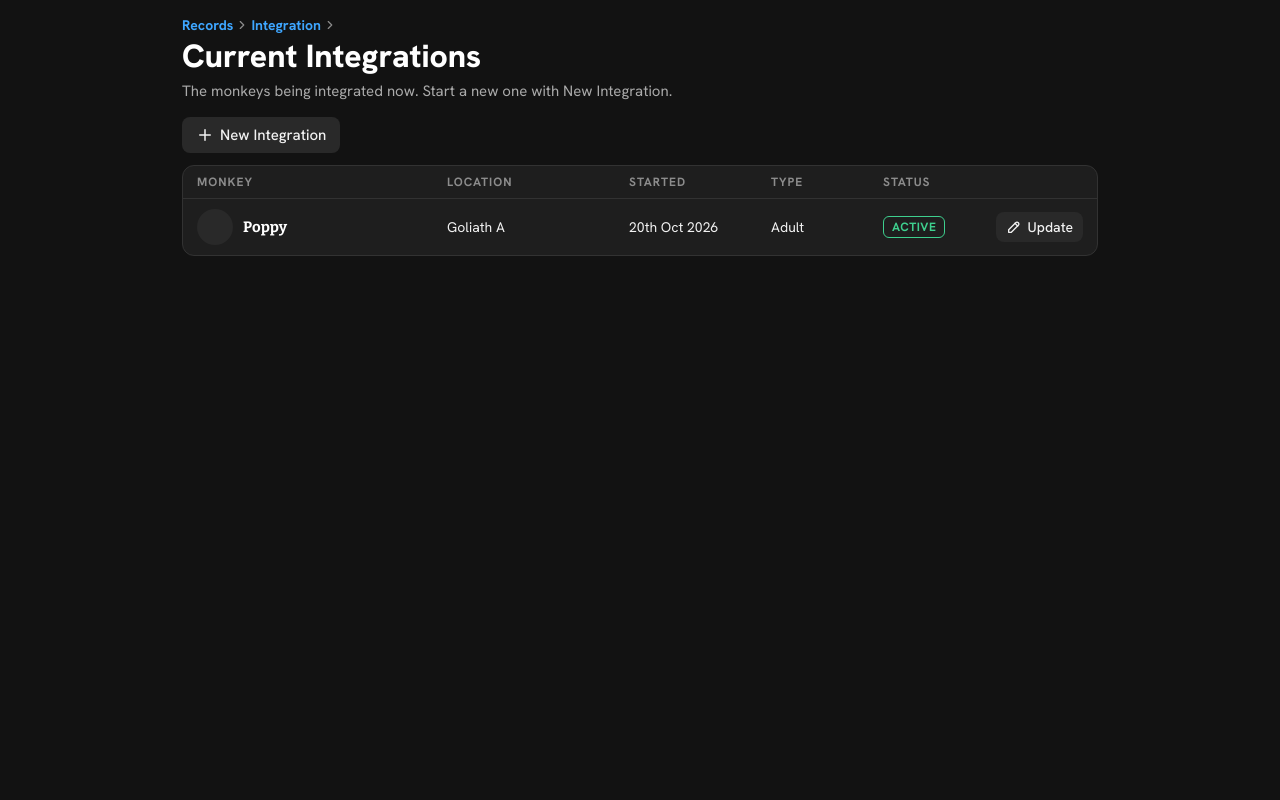
Current Integrations › Update: Cancel changes nothing; a problem shows in the pop-up
The image size is (1280, 800).
Step 1. Click the button with aria-label "Update, Poppy" → click(1039, 227), box [996,212,1083,242]
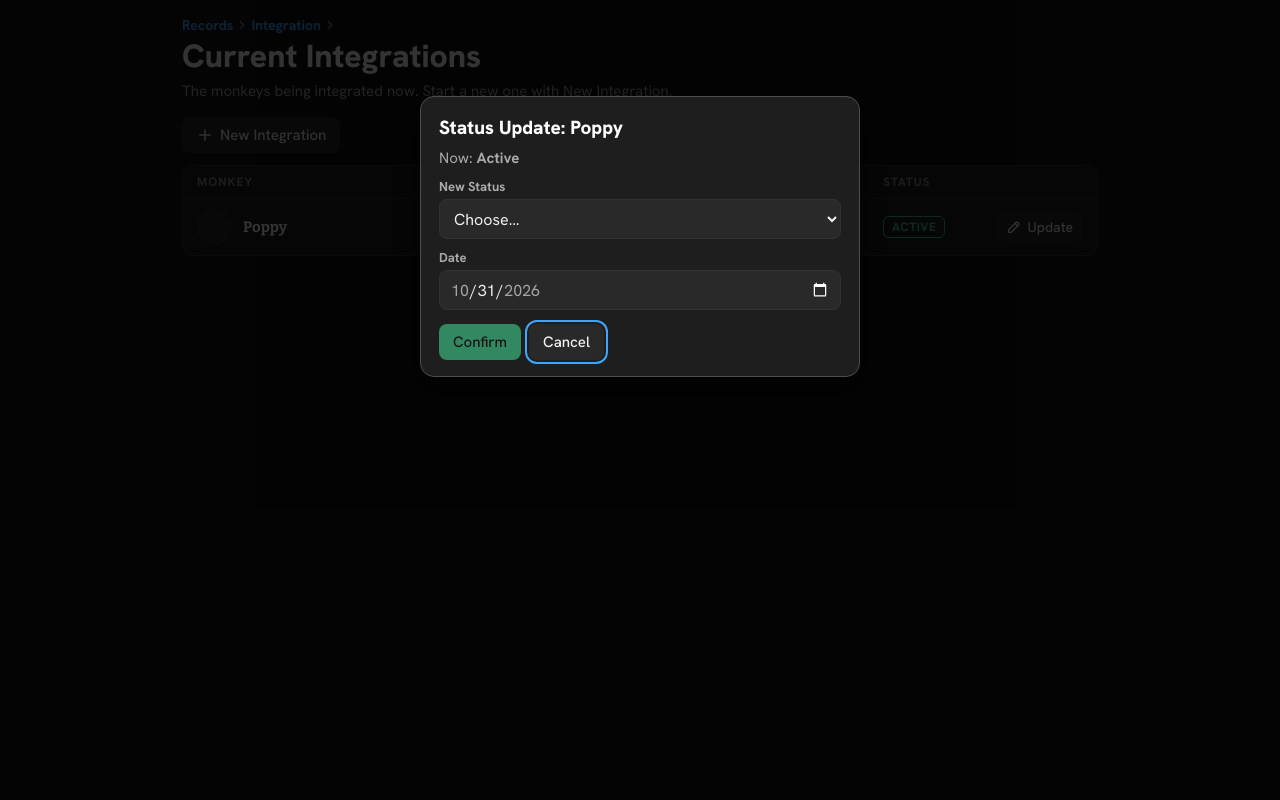
Step 2. Click the button "Cancel" → click(567, 342), box [529,324,604,360]
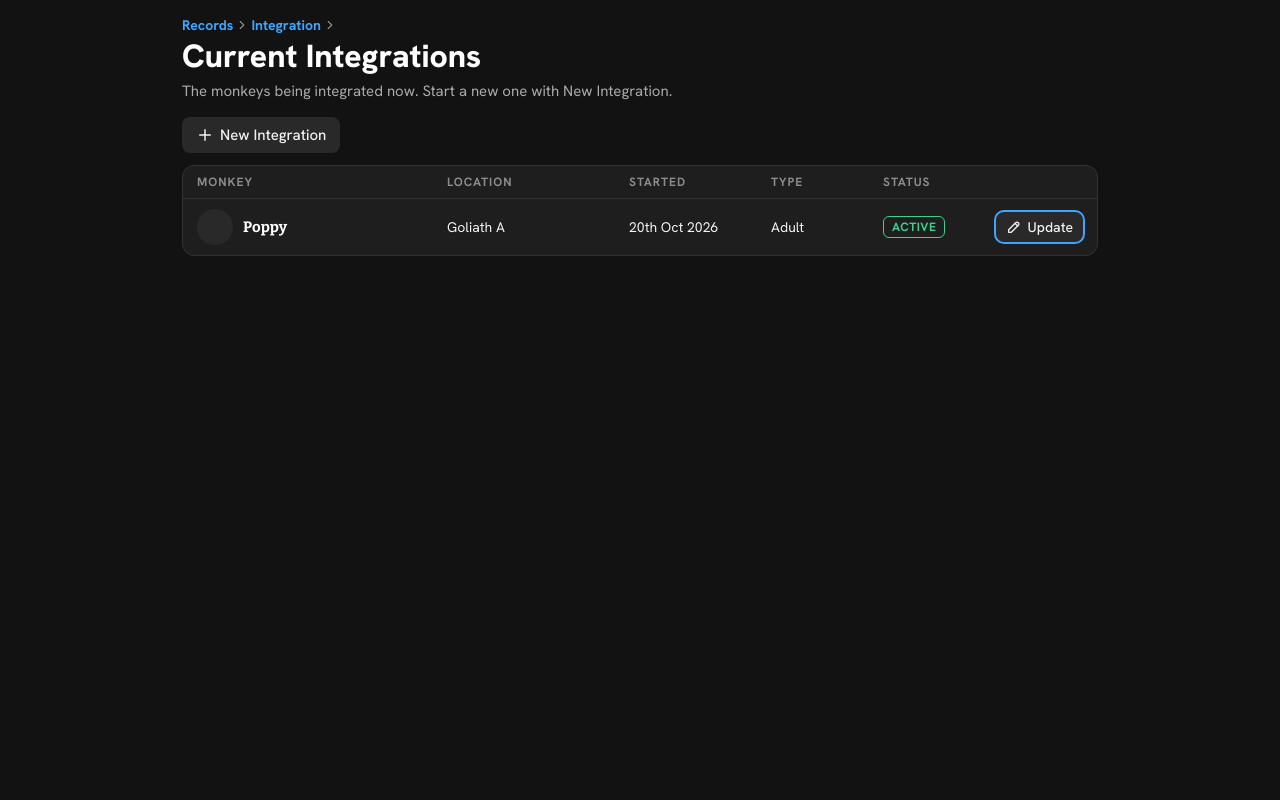
Now the dialog is gone
Step 3. Click the button with aria-label "Update, Poppy" → click(1039, 227), box [996,212,1083,242]
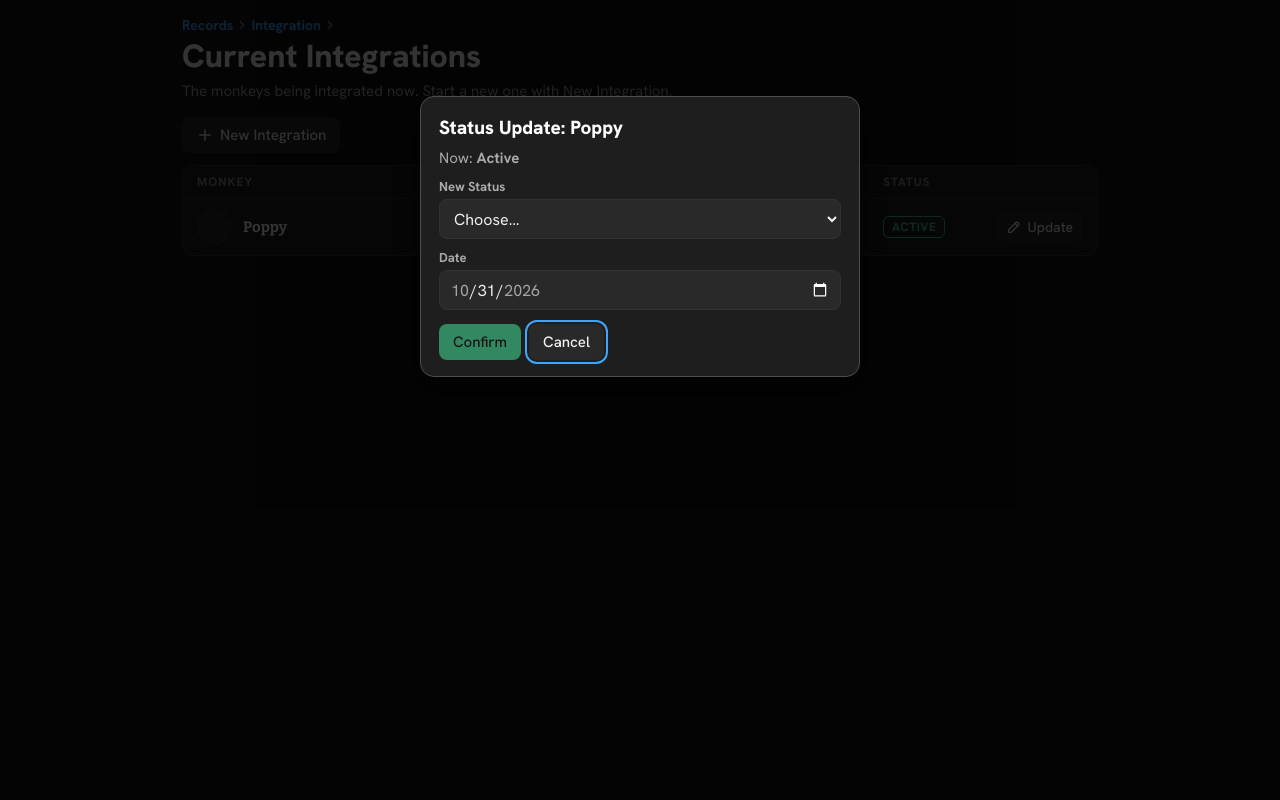
Step 4. Select "Completed" in the dropdown labelled "New Status" → (640, 219), box [439,199,841,239]
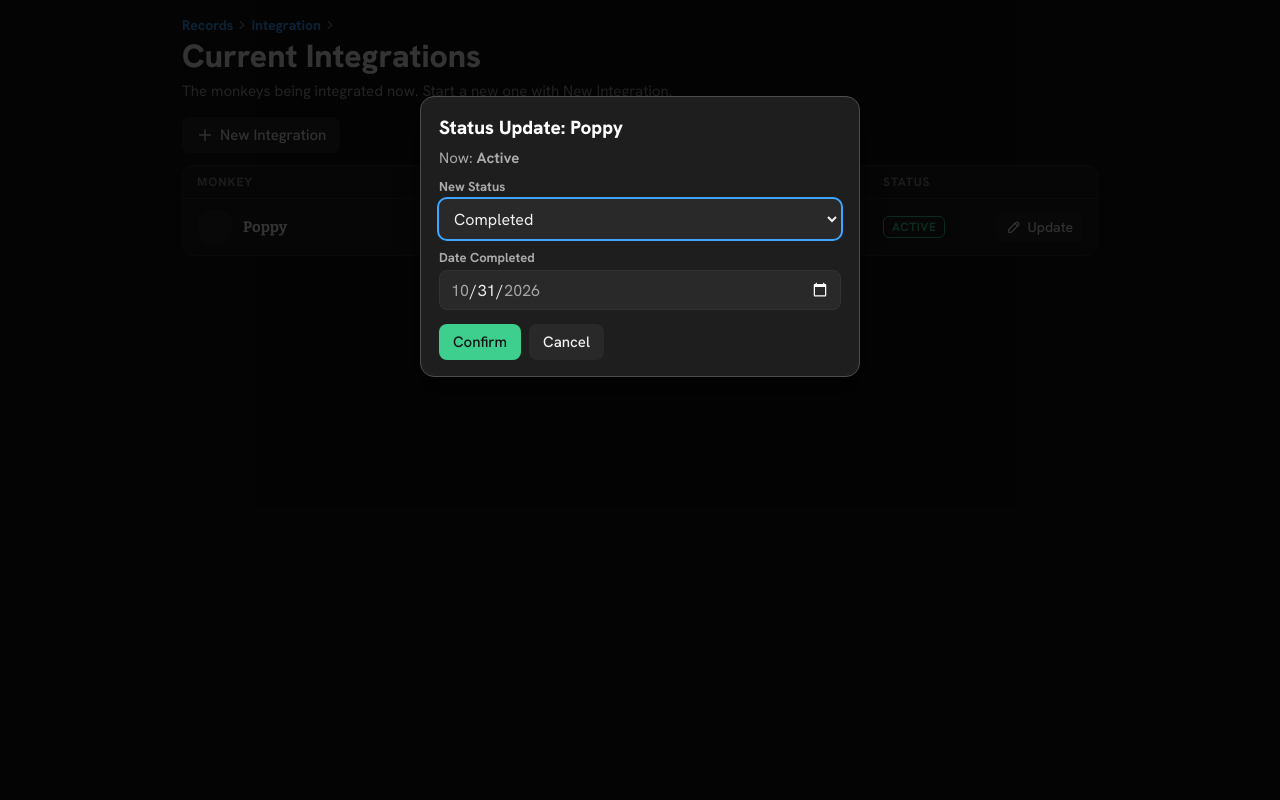
Step 5. Click the button "Confirm" → click(480, 342), box [439,324,521,360]
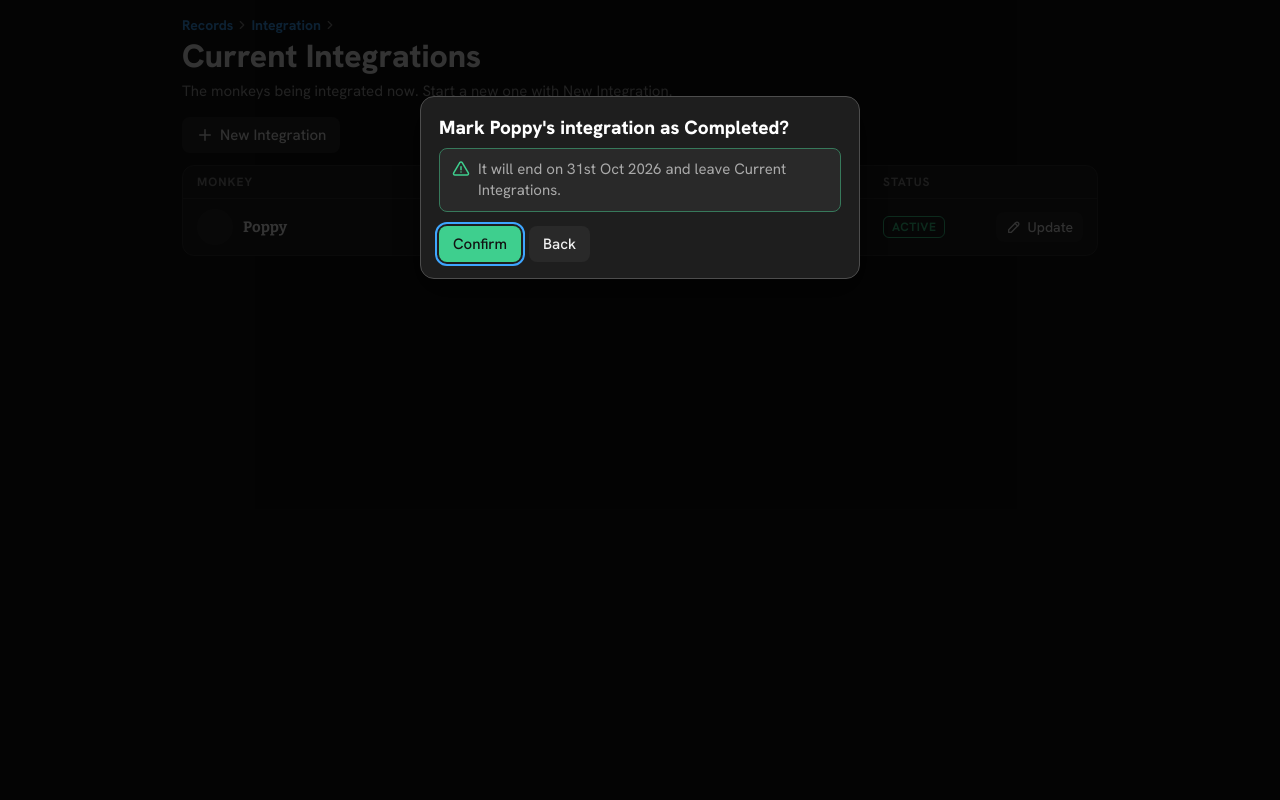
Step 6. Click the button "Confirm" → click(480, 244), box [439,226,521,262]
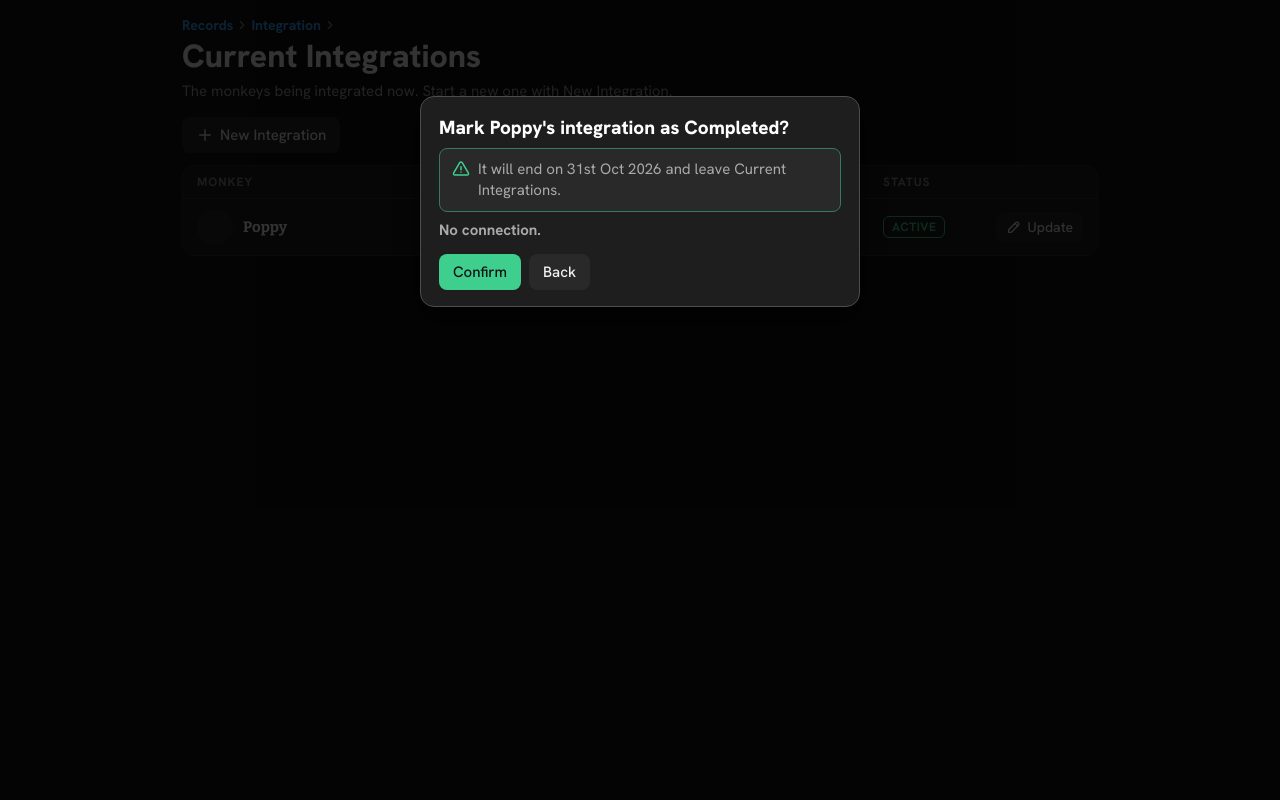
Expected: the text "Poppy" shows "Active", [892,219,936,235]
Now the message reads "No connection.", box [439,220,541,240]
